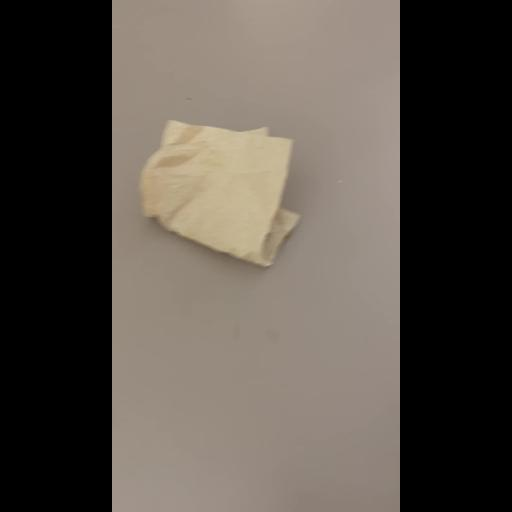napkin: (131, 114, 317, 276)
